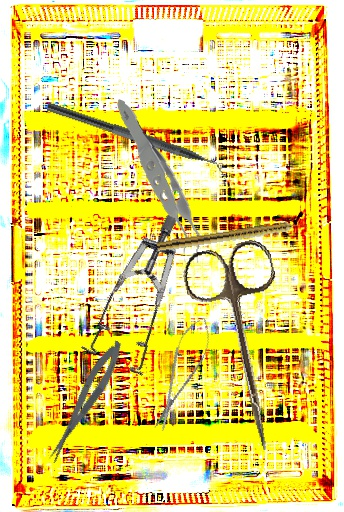Chopper: (42, 101, 233, 184)
Handpiece: (156, 218, 309, 255)
Iris Scissors: (178, 236, 314, 460)
Micro Scissor: (39, 336, 130, 467), (144, 311, 219, 436)
Speculum: (47, 211, 241, 395)
Tissue Forceps: (104, 98, 212, 268)
